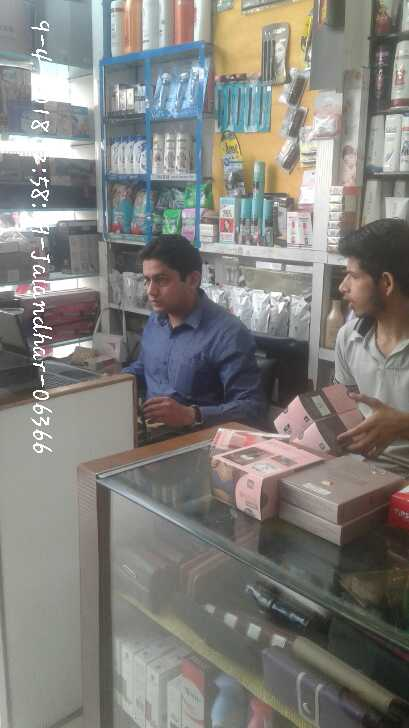venus: (155, 68, 173, 110), (188, 66, 199, 106), (175, 71, 185, 106)
